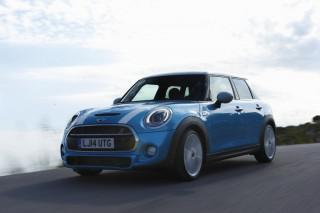mini: (92, 116, 110, 124)
